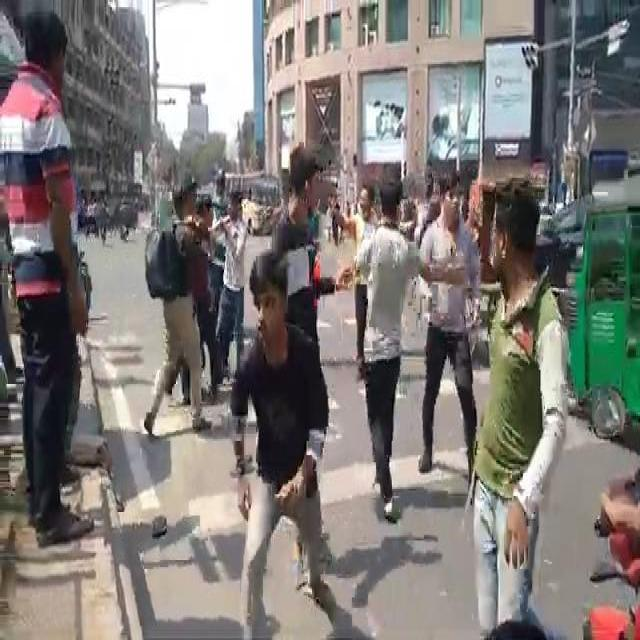fight: (198, 256, 354, 640), (334, 143, 483, 515), (0, 30, 89, 564), (466, 188, 556, 640), (152, 153, 254, 435)
